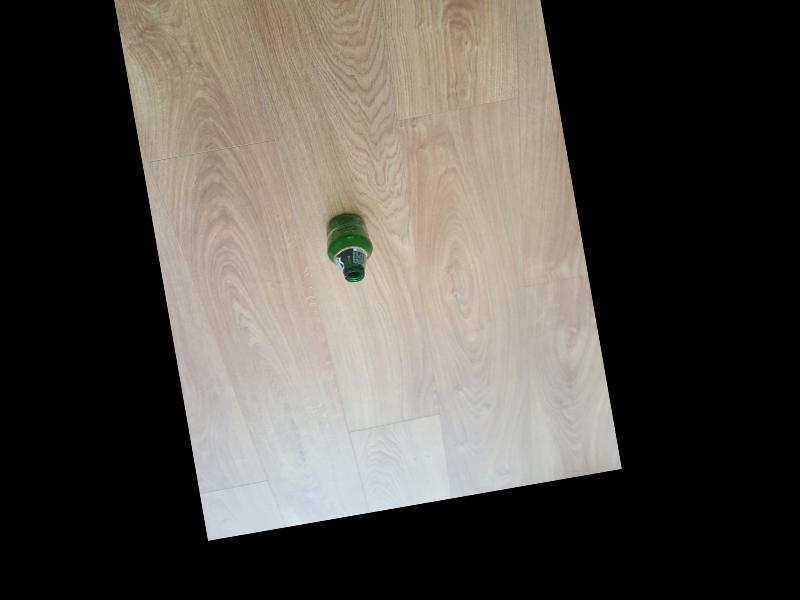Beer: (322, 208, 381, 285)
